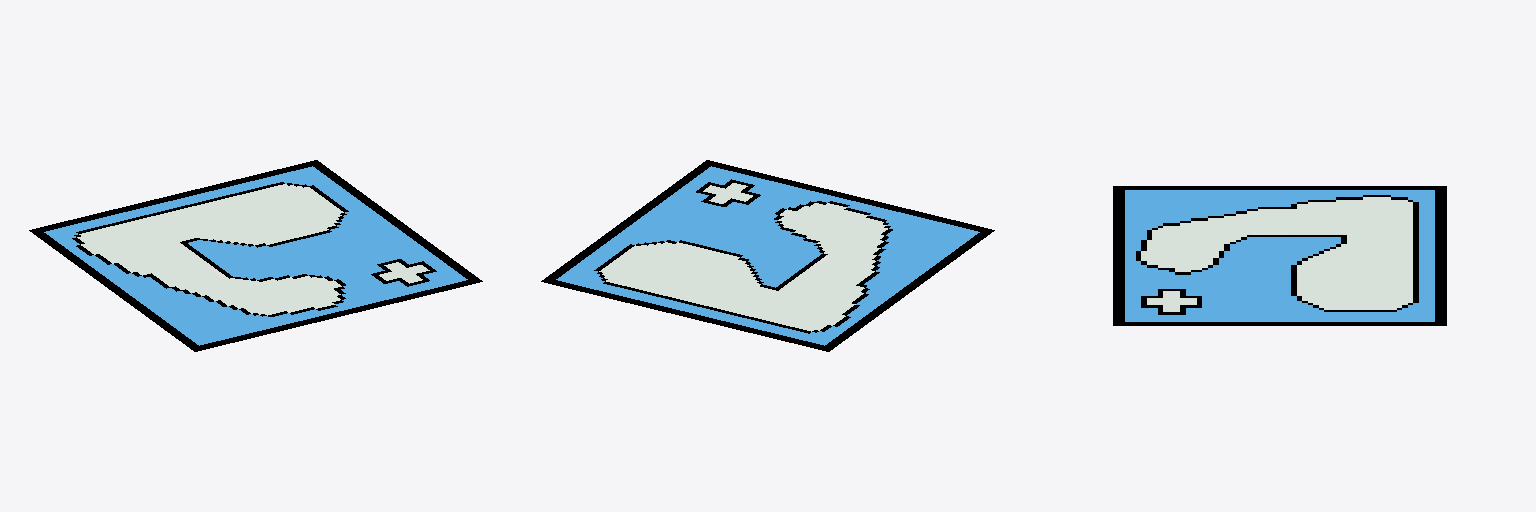
3 views of the same model, side by side, from view 1: azimuth 30°, elevation 25°; view 2: azimuth 150°, elevation 25°; view 3: azimuth 270°, elevation 25° (orthographic).
Parts seen in each view (by area): view 1: 平面.001; view 2: 平面.001; view 3: 平面.001.
Boxes of the visible parts, <box> form: 平面.001: <box>29,160,482,351</box>; 平面.001: <box>541,160,994,351</box>; 平面.001: <box>1113,186,1446,325</box>.
Size of the model in its own units: 2 by 0 by 2.
Materials: 1 (1 with a texture image).